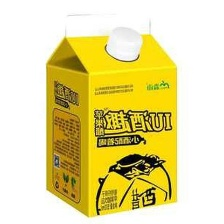carton: (38, 8, 185, 219)
